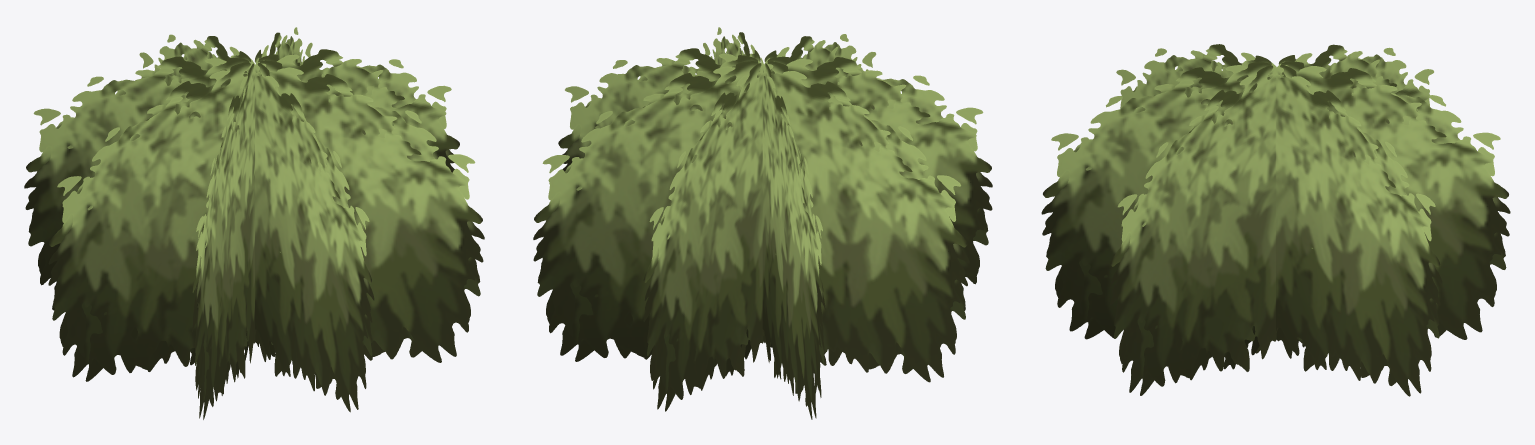
Rendered from painted-bush-034.glb.
The picture shows the model from 3 angles, left to right: view 1: azimuth 30°, elevation 25°; view 2: azimuth 150°, elevation 25°; view 3: azimuth 270°, elevation 25°; orthographic projection.
Size of the model in its own units: 10.1 by 7.21 by 10.1.
Materials: 1 (1 with a texture image).
